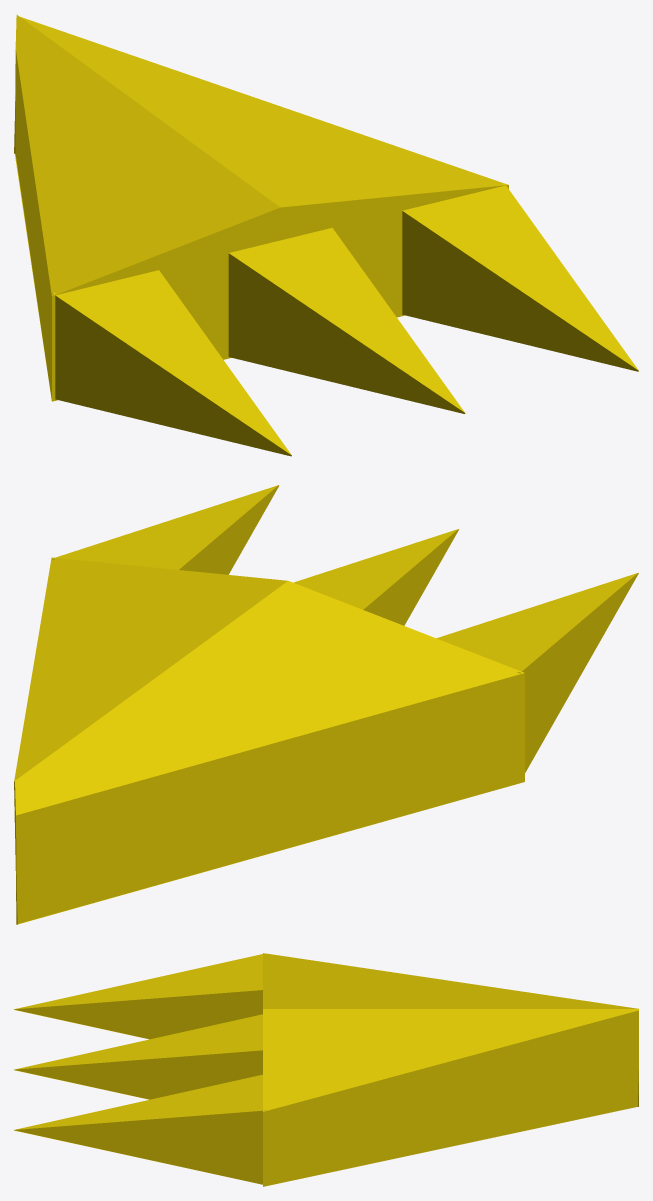
The model's file is Foot.fbx.
3 renders of one model, top to bottom at view 1: azimuth 30°, elevation 25°; view 2: azimuth 150°, elevation 25°; view 3: azimuth 270°, elevation 25°, orthographic. The views are drawn at different scales.
Parts seen in each view (by area): view 1: Pe_Galinha; view 2: Pe_Galinha; view 3: Pe_Galinha.
Boxes of the visible parts, x1=… form: Pe_Galinha: x1=14, y1=15, x2=638, y2=456; Pe_Galinha: x1=14, y1=485, x2=638, y2=924; Pe_Galinha: x1=14, y1=953, x2=638, y2=1186.
Bounding box in the file's own units: 200 × 57.89 × 332.
